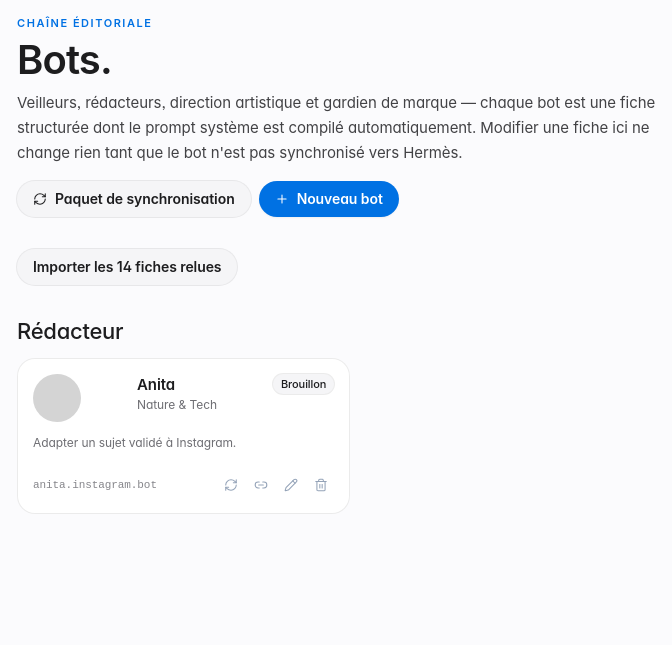
Scenario: BotsView › shows a verified activation decision to an administrator
Check: the text "Anita" is shown, box [137,375,175,394]
Click the button named "Vérifier Anita". click: (231, 485)
box: [218,472,244,498]
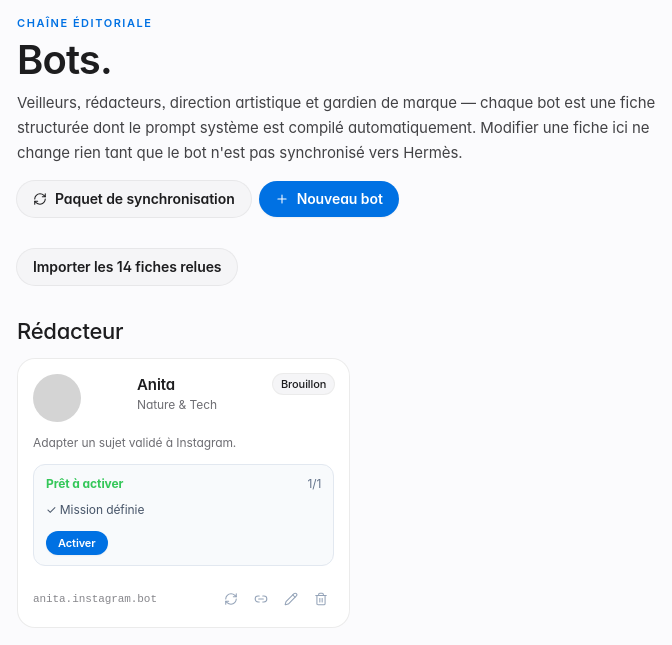
Check: the text "Prêt à activer" is shown, box [46,475,123,493]
Check: the button with aria-label "Activer Anita" is shown, box [46,531,108,555]
